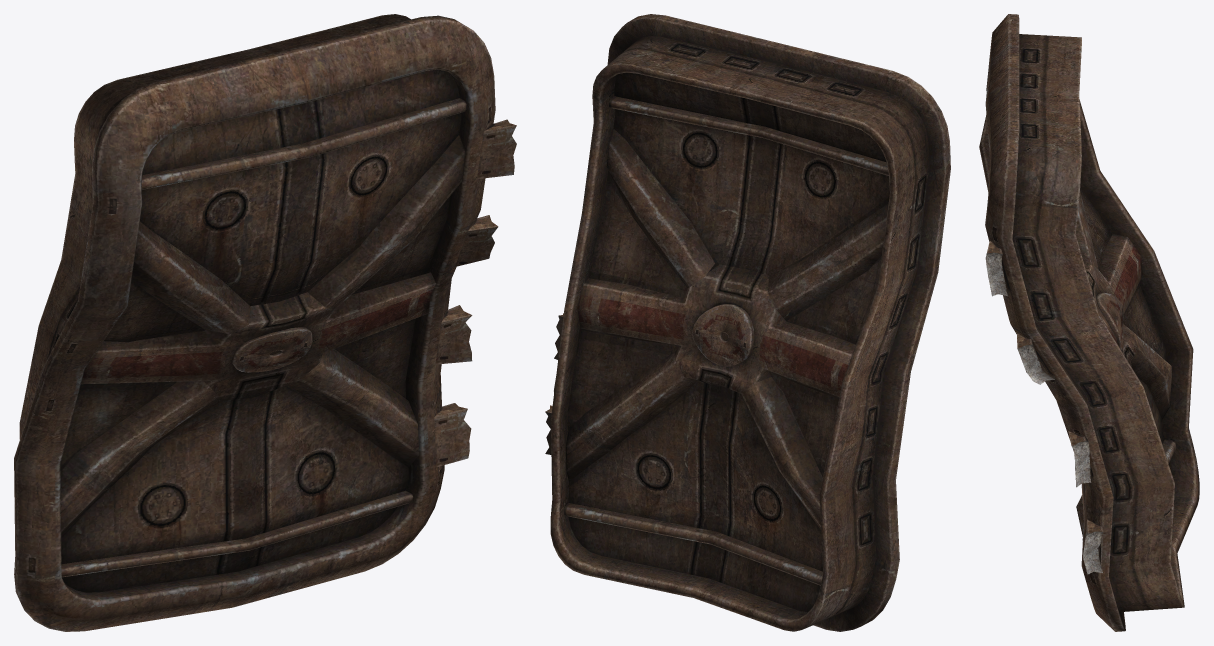
Rendered from swingdoor_flush_control_door_broken.dae.
3 views of the same model, side by side, from view 1: azimuth 30°, elevation 25°; view 2: azimuth 150°, elevation 25°; view 3: azimuth 270°, elevation 25° (orthographic). The views are drawn at different scales.
Parts seen in each view (by area): view 1: polySurface200; view 2: polySurface200; view 3: polySurface200.
Boxes of the visible parts, x1,y1,x2,y2 form: polySurface200: (14, 14, 516, 631); polySurface200: (545, 14, 950, 631); polySurface200: (979, 14, 1199, 631).
Bounding box in the file's own units: 2.14 × 2.83 × 1.14.
